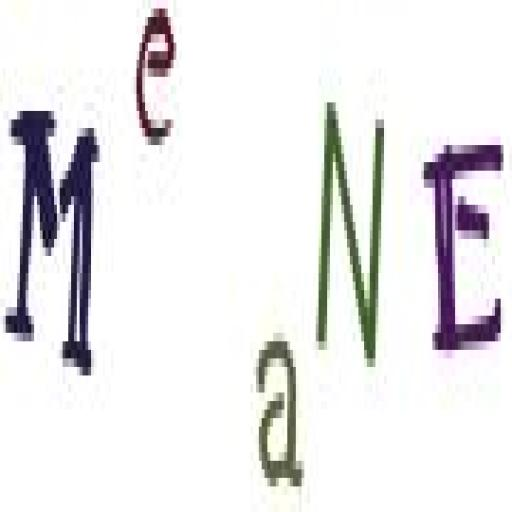E: (420, 126, 510, 365)
M: (2, 83, 106, 409)
N: (314, 85, 389, 373)
a: (248, 328, 311, 508)
e: (133, 0, 181, 160)
